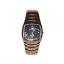watch: (20, 16, 46, 46)
